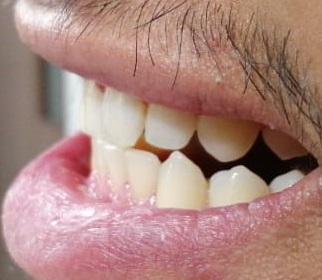boca: (75, 77, 301, 207)
